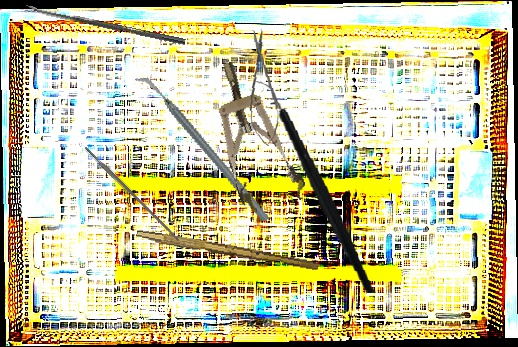Chopper: (250, 70, 377, 304), (133, 50, 270, 246)
Micro Scissor: (242, 28, 283, 148)
Scalpel Handle: (83, 145, 181, 242), (135, 229, 320, 272)
Speculum: (197, 51, 310, 219)
Surgical Spoon: (25, 4, 186, 45)
